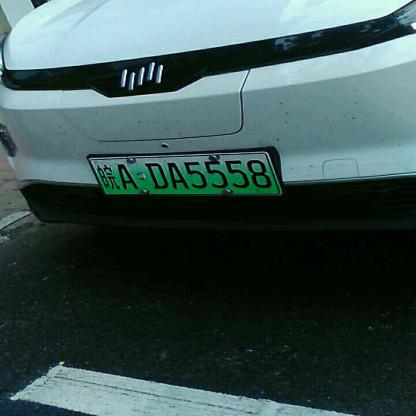lp: (89, 152, 281, 193)
